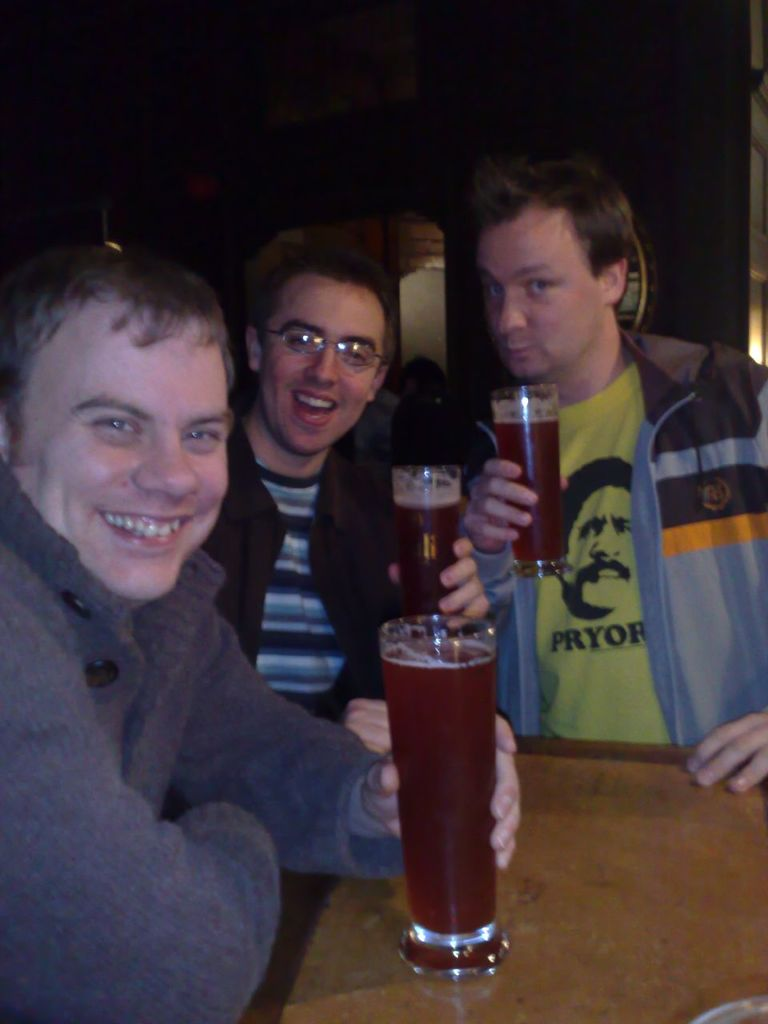Beer: (383, 634, 490, 937), (495, 407, 563, 583), (393, 499, 452, 622)
